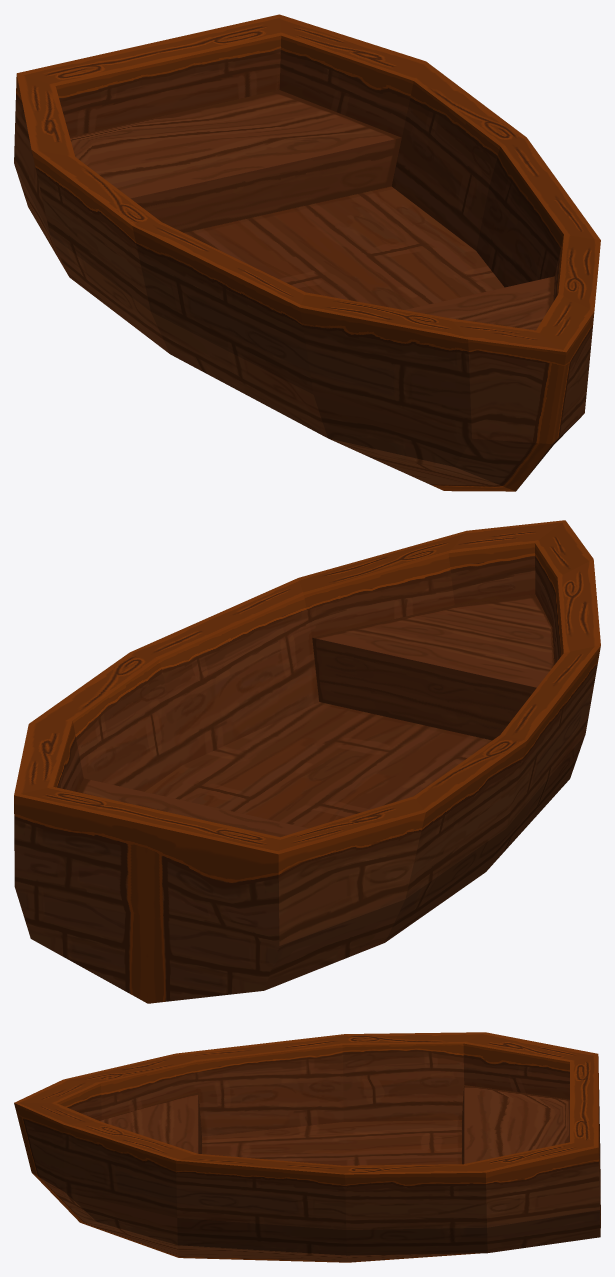
File: boat.glb
3 renders of one model, top to bottom at view 1: azimuth 30°, elevation 25°; view 2: azimuth 150°, elevation 25°; view 3: azimuth 270°, elevation 25°, orthographic. The views are drawn at different scales.
Visible parts, largest first — view 1: Cube; view 2: Cube; view 3: Cube.
Boxes of the visible parts, x1=… form: Cube: x1=14, y1=14, x2=600, y2=491; Cube: x1=14, y1=520, x2=600, y2=1003; Cube: x1=14, y1=1032, x2=600, y2=1262.
Bounding box in the file's own units: 231 × 132 × 425.
Materials: 1 (1 with a texture image).
